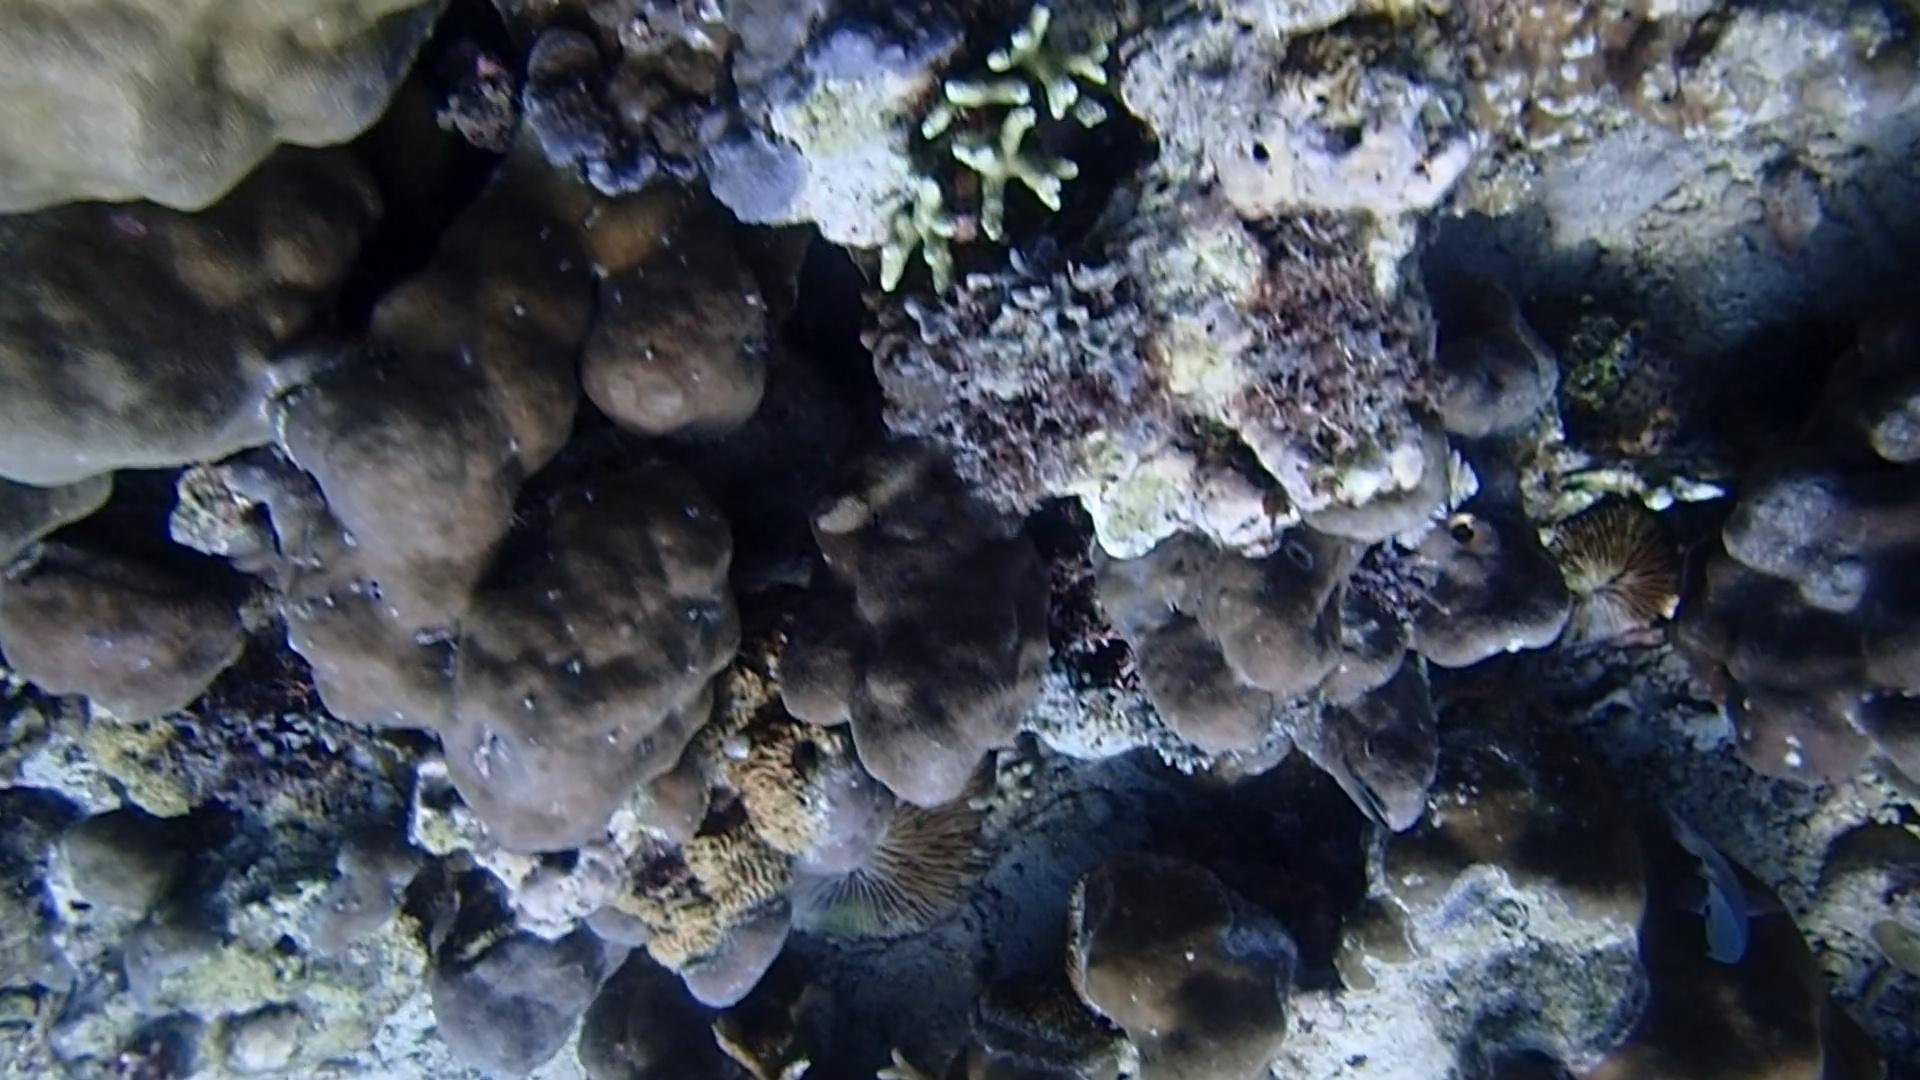Blue Fish Two: (1660, 808, 1770, 973)
